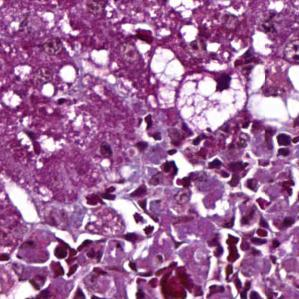ballooning: (174, 61, 249, 138), (242, 54, 299, 130), (149, 45, 187, 114)
